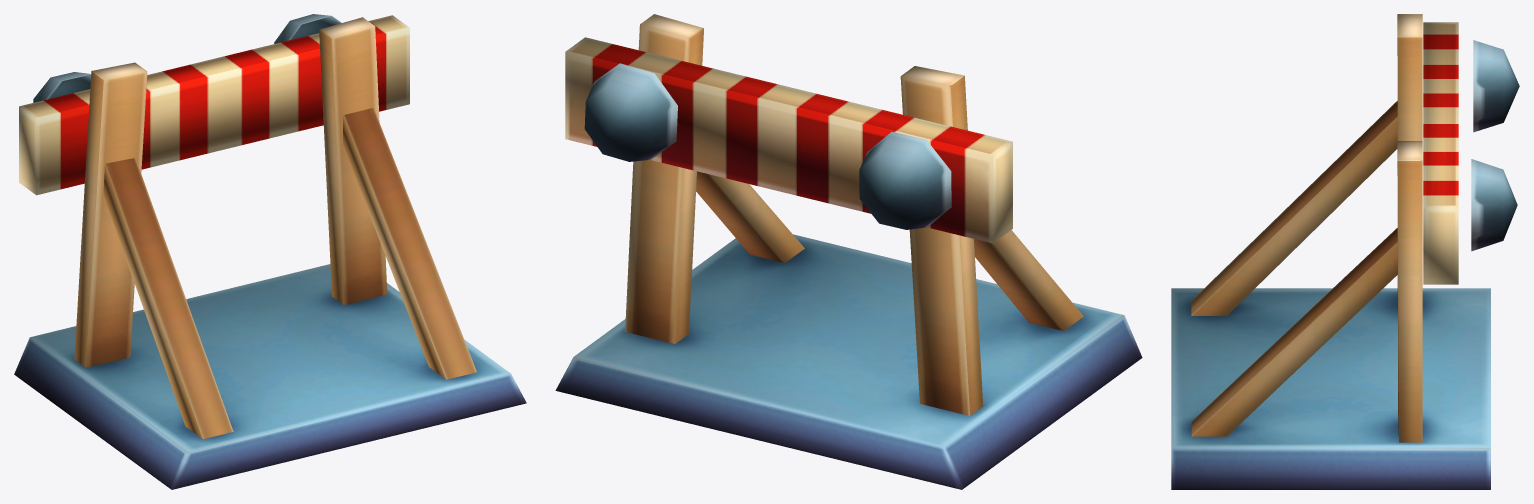
File: blocker_standard.glb
3 renders of one model, left to right at view 1: azimuth 30°, elevation 25°; view 2: azimuth 150°, elevation 25°; view 3: azimuth 270°, elevation 25°, orthographic. The views are drawn at different scales.
Parts seen in each view (by area): view 1: Object_2; view 2: Object_2; view 3: Object_2.
Part boxes in pixels (x1=…): Object_2: x1=14, y1=14, x2=526, y2=489; Object_2: x1=555, y1=14, x2=1142, y2=489; Object_2: x1=1171, y1=14, x2=1519, y2=489.
Size of the model in its own units: 19.55 by 15.88 by 15.59.
1 material, 1 textured.
